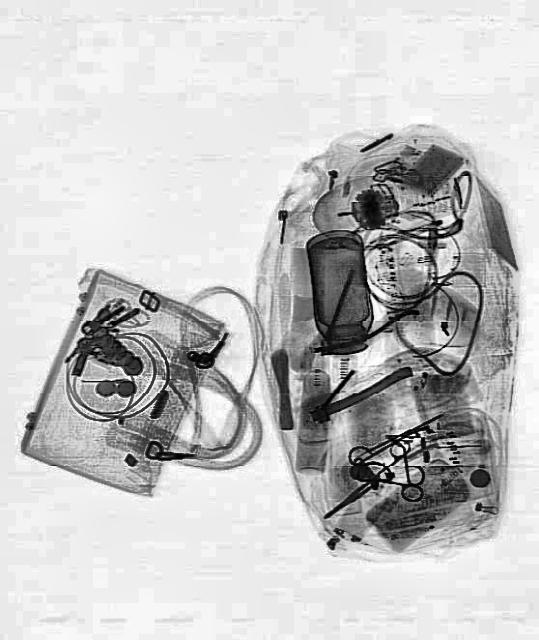Scissors: (309, 428, 431, 540)
